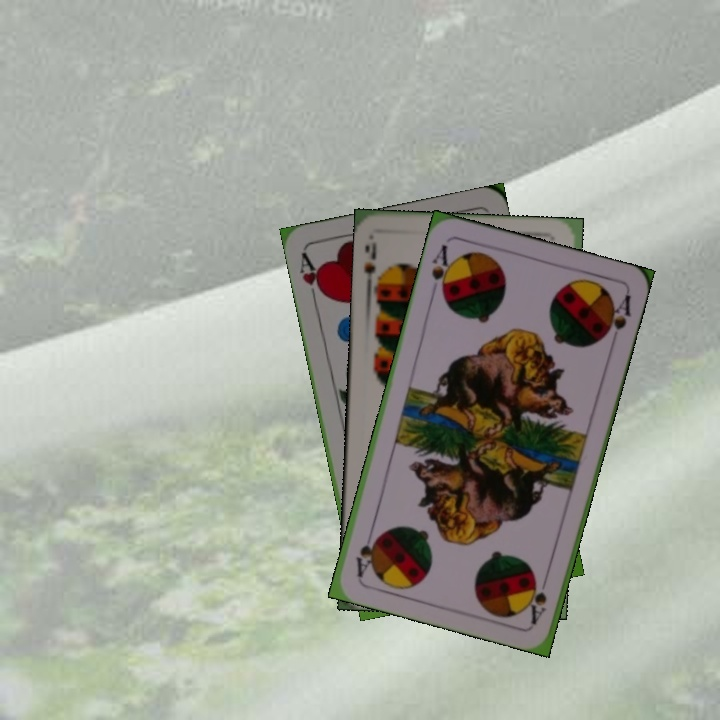HA: (295, 249, 328, 308)
S9: (360, 238, 386, 294)
SA: (427, 241, 456, 300), (525, 568, 552, 626)
